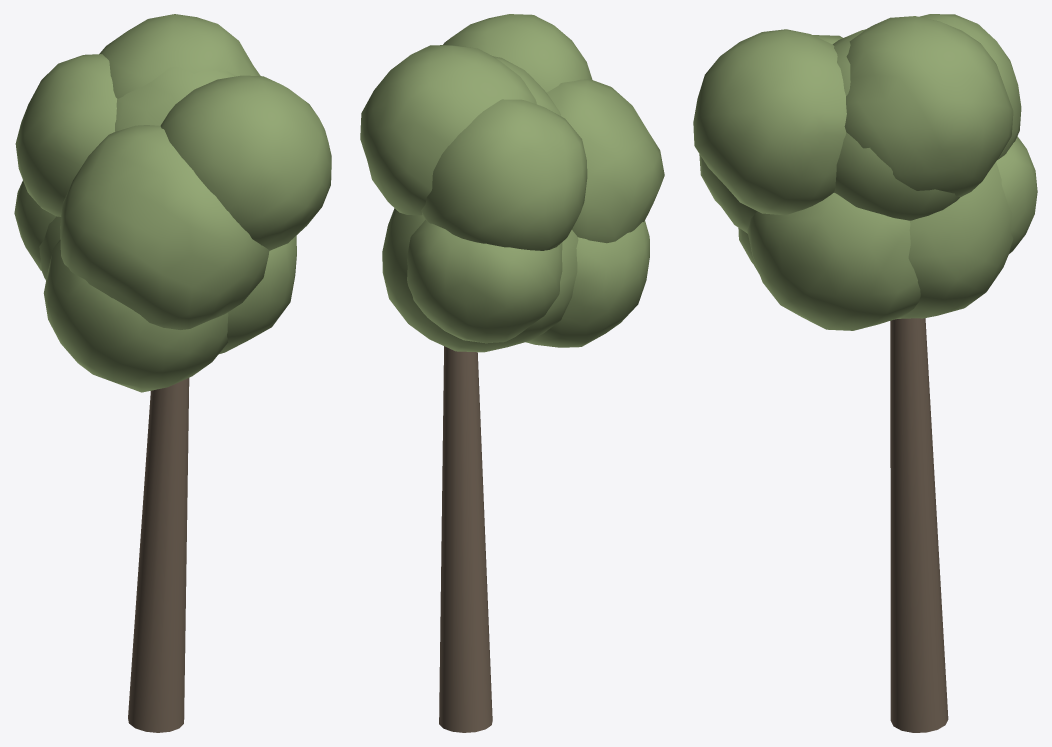
Rendered from NPR_07_0041__MOD__VegetationElements__Trees__SilverBirch__Var-01__.glb.
3 renders of one model, left to right at view 1: azimuth 30°, elevation 25°; view 2: azimuth 150°, elevation 25°; view 3: azimuth 270°, elevation 25°, orthographic. The views are drawn at different scales.
Visible parts, largest first — view 1: NPR_07_0041__MOD__VegetationElements__Trees__SilverBirch__Va; view 2: NPR_07_0041__MOD__VegetationElements__Trees__SilverBirch__Va; view 3: NPR_07_0041__MOD__VegetationElements__Trees__SilverBirch__Va.
Boxes of the visible parts, x1,y1,x2,y2 form: NPR_07_0041__MOD__VegetationElements__Trees__SilverBirch__Va: [14, 14, 331, 732]; NPR_07_0041__MOD__VegetationElements__Trees__SilverBirch__Va: [360, 14, 664, 732]; NPR_07_0041__MOD__VegetationElements__Trees__SilverBirch__Va: [693, 14, 1037, 732].
Bounding box in the file's own units: 2.13 × 5.92 × 2.62.
